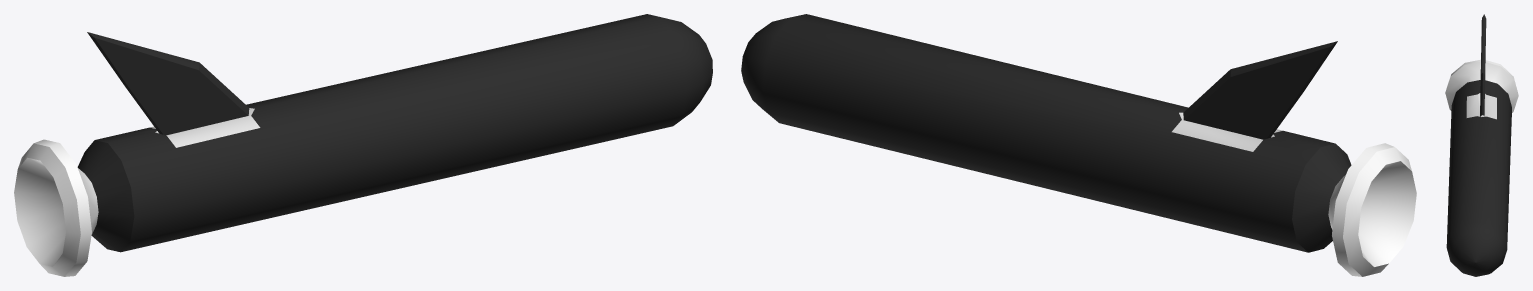
Rendered from missile.FBX.
3 views of the same model, side by side, from view 1: azimuth 30°, elevation 25°; view 2: azimuth 150°, elevation 25°; view 3: azimuth 270°, elevation 25° (orthographic). The views are drawn at different scales.
Parts seen in each view (by area): view 1: missile; view 2: missile; view 3: missile.
Part boxes in pixels (box(x1,y1,x2,y2)): missile: box(14, 14, 712, 276); missile: box(741, 14, 1416, 276); missile: box(1445, 14, 1518, 276).
Size of the model in its own units: 123 by 40.58 by 22.34.
